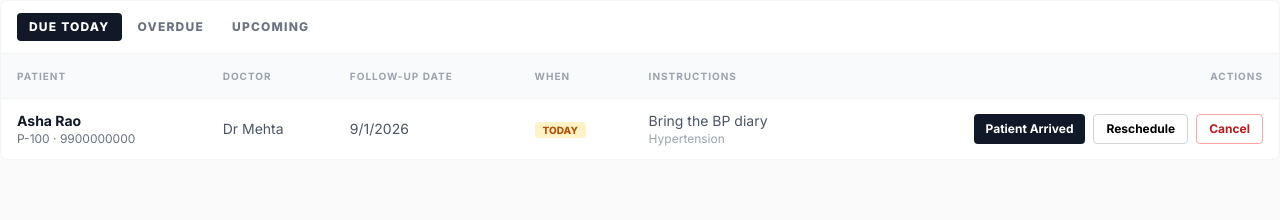
Test: FollowUpPanel › keeps the rows it already had when a refresh fails, and says they may be stale
expect the text "Asha Rao" is shown: met, box [17,112,81,129]
Click the tab "Overdue": (171,27) [126,13,216,41]
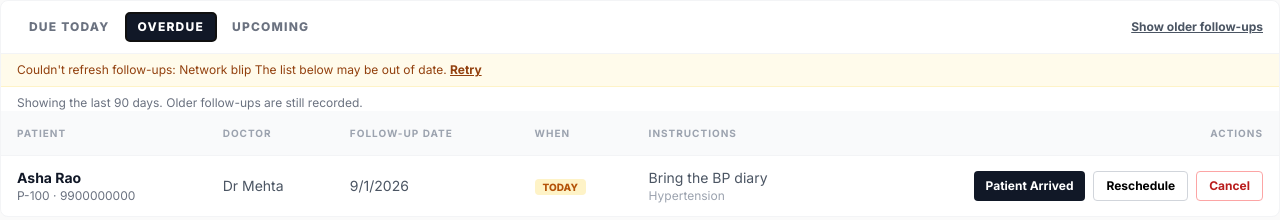
expect the text "Asha Rao" is shown: met, box [17,169,81,186]
expect the message shows "may be out of date": met, box [251,62,447,77]
